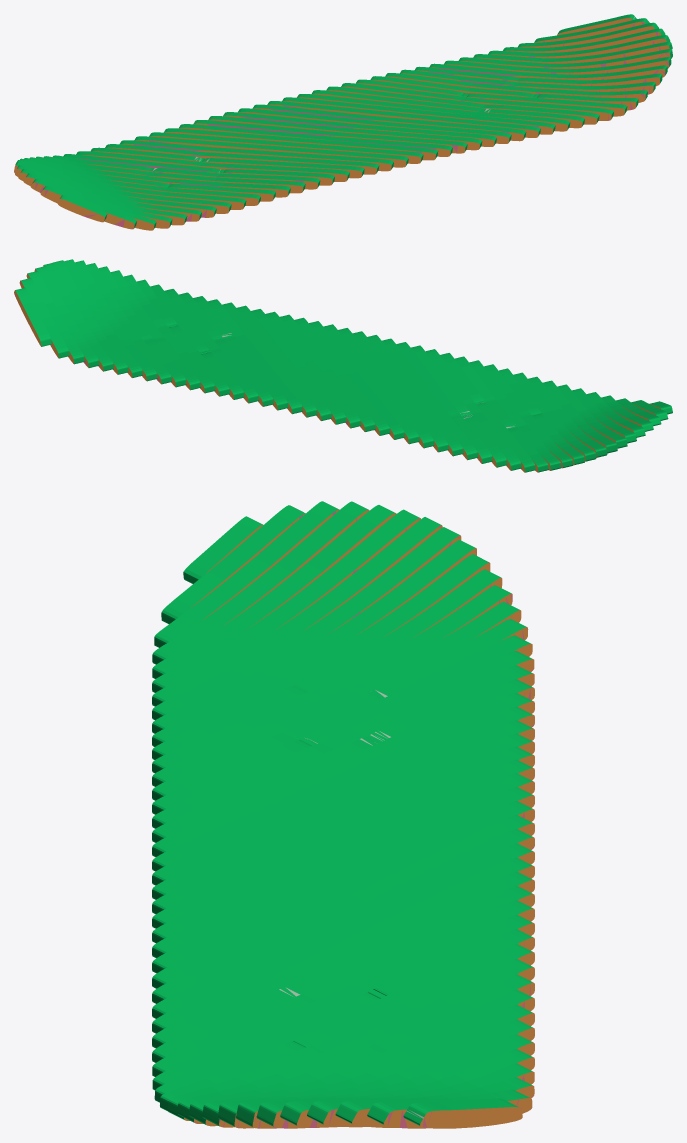
File: skateboard.fbx
3 views of the same model, one above another, from view 1: azimuth 30°, elevation 25°; view 2: azimuth 150°, elevation 25°; view 3: azimuth 270°, elevation 25° (orthographic). The views are drawn at different scales.
Parts seen in each view (by area): view 1: 000-0-0, 001-0-1; view 2: 000-0-0, 001-0-1; view 3: 000-0-0, 001-0-1.
Boxes of the visible parts, x1=… form: 000-0-0: x1=15, y1=14, x2=672, y2=229; 001-0-1: x1=14, y1=18, x2=670, y2=230; 000-0-0: x1=15, y1=259, x2=672, y2=472; 001-0-1: x1=14, y1=265, x2=660, y2=472; 000-0-0: x1=152, y1=501, x2=533, y2=1126; 001-0-1: x1=184, y1=509, x2=534, y2=1128.
Bounding box in the file's own units: 29314 × 1764 × 7735.
